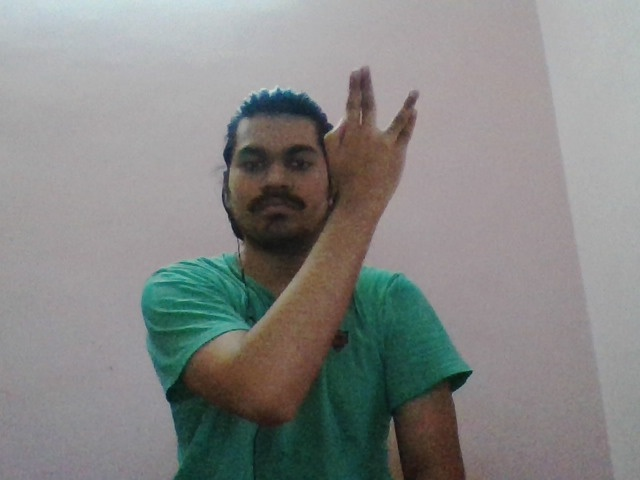LiveLong: (323, 65, 423, 210)
